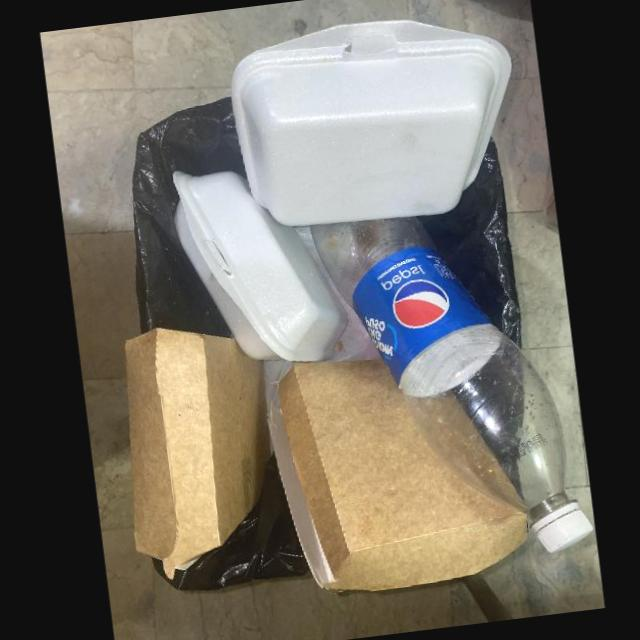carton: (261, 354, 530, 590), (124, 324, 273, 573)
chai_nhua_pet: (310, 215, 593, 552)
xop: (230, 16, 512, 224), (172, 169, 348, 361)
